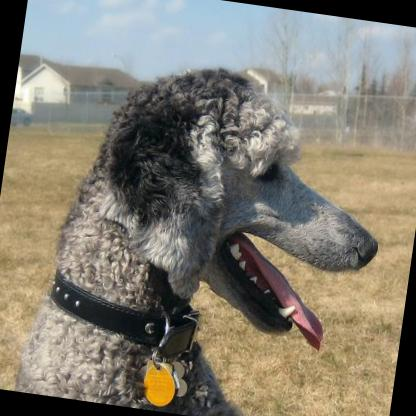standard_poodle: (13, 44, 399, 416)
